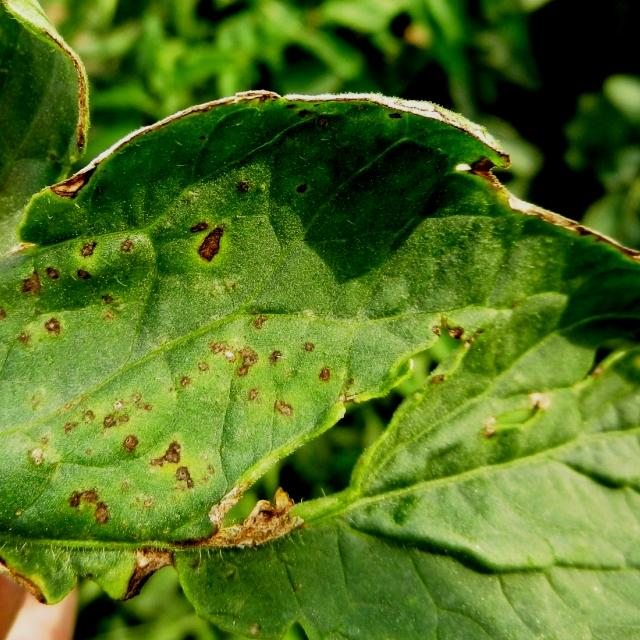Tomato leaf bacterial spot: (0, 60, 640, 640)
